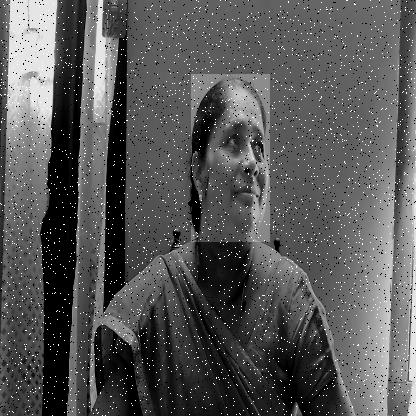Distracted: (191, 74, 270, 242)
